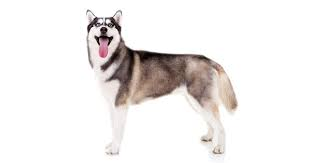Siberian Husky: (52, 5, 267, 163)
